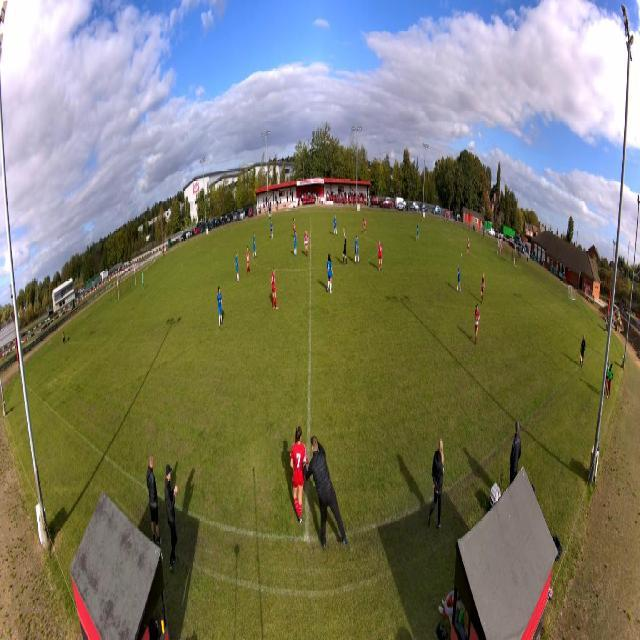ball: (461, 251, 463, 258)
player: (290, 425, 307, 526), (216, 285, 224, 329), (271, 266, 278, 312), (475, 302, 482, 344), (326, 253, 333, 294), (341, 229, 347, 267), (354, 234, 360, 265), (377, 240, 383, 271), (246, 246, 251, 276), (304, 228, 309, 257), (253, 232, 258, 260), (457, 263, 461, 295), (481, 272, 485, 304), (235, 250, 239, 280), (293, 230, 297, 257), (334, 211, 338, 236), (363, 212, 367, 233), (269, 219, 273, 238), (292, 215, 296, 234), (467, 233, 470, 258), (416, 221, 419, 242), (141, 272, 144, 291), (500, 243, 502, 257)
